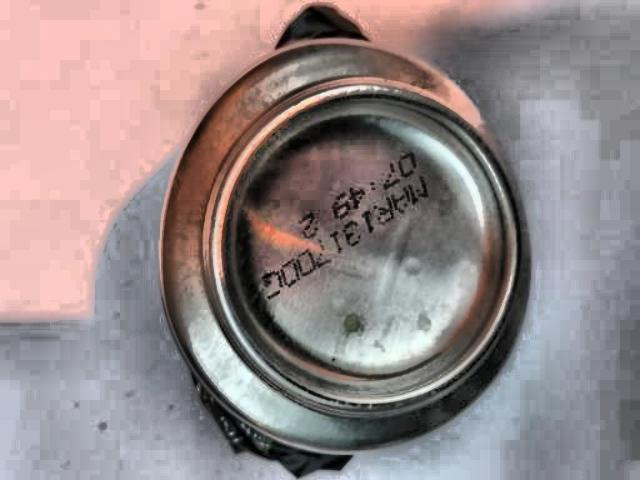Bottles: (121, 3, 552, 480)
